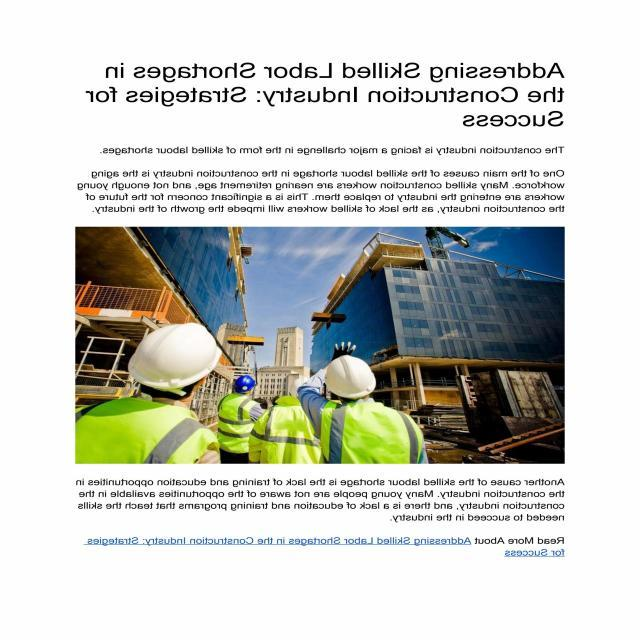reflective_jacket: (72, 399, 217, 465), (317, 400, 426, 464), (251, 396, 324, 463), (214, 393, 254, 451)
safety_helmet: (125, 320, 224, 389), (320, 352, 378, 399), (232, 373, 258, 392)
